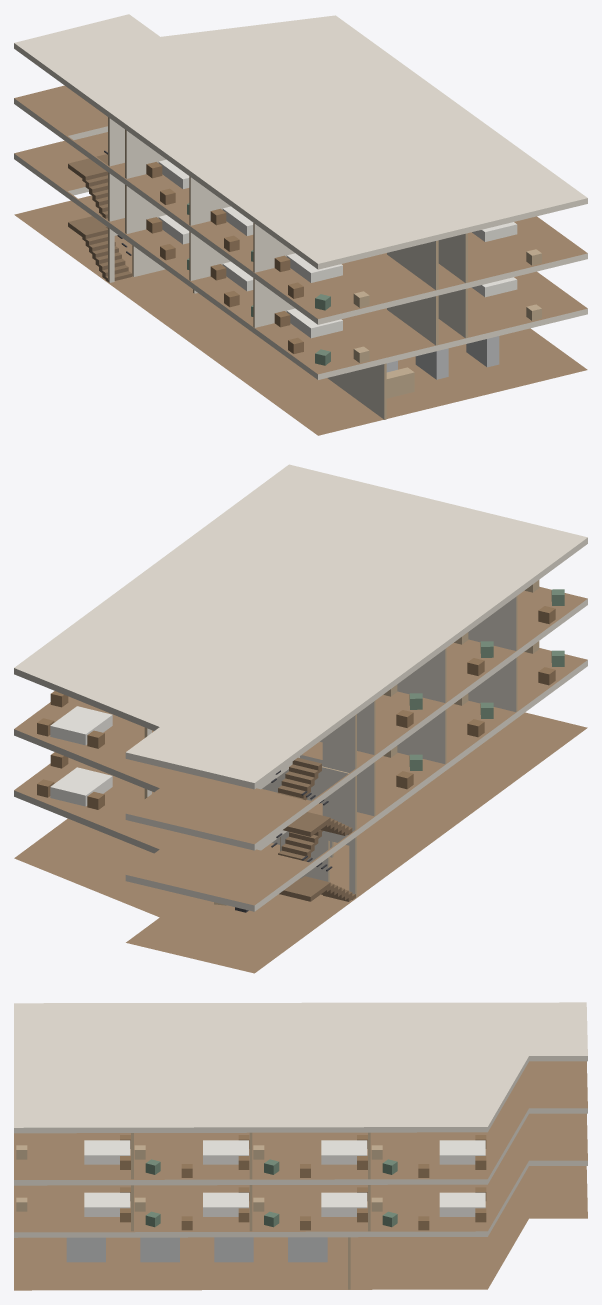
The model's file is interior.glb.
3 views of the same model, one above another, from view 1: azimuth 30°, elevation 25°; view 2: azimuth 150°, elevation 25°; view 3: azimuth 270°, elevation 25° (orthographic). The views are drawn at different scales.
Visible parts, largest first — view 1: slabs, partitions, coarse-s1, coarse-s2, stair, coarse-s0; view 2: slabs, partitions, stair, coarse-s2, coarse-s1; view 3: slabs, coarse-s1, coarse-s2, coarse-s0, partitions.
Part boxes in pixels (<box>): slabs: <box>14,14,587,435</box>; partitions: <box>108,117,467,419</box>; coarse-s1: <box>146,215,541,365</box>; coarse-s2: <box>146,159,541,310</box>; stair: <box>68,150,131,281</box>; coarse-s0: <box>386,336,499,398</box>; slabs: <box>14,464,587,973</box>; partitions: <box>144,596,517,897</box>; stair: <box>271,757,355,901</box>; coarse-s2: <box>37,580,564,748</box>; coarse-s1: <box>37,641,564,809</box>; slabs: <box>14,1002,587,1290</box>; coarse-s1: <box>16,1187,486,1230</box>; coarse-s2: <box>16,1135,486,1177</box>; coarse-s0: <box>66,1237,327,1262</box>; partitions: <box>131,1132,370,1289</box>.
Bounding box in the file's own units: 12.86 × 7.8 × 24.88.
